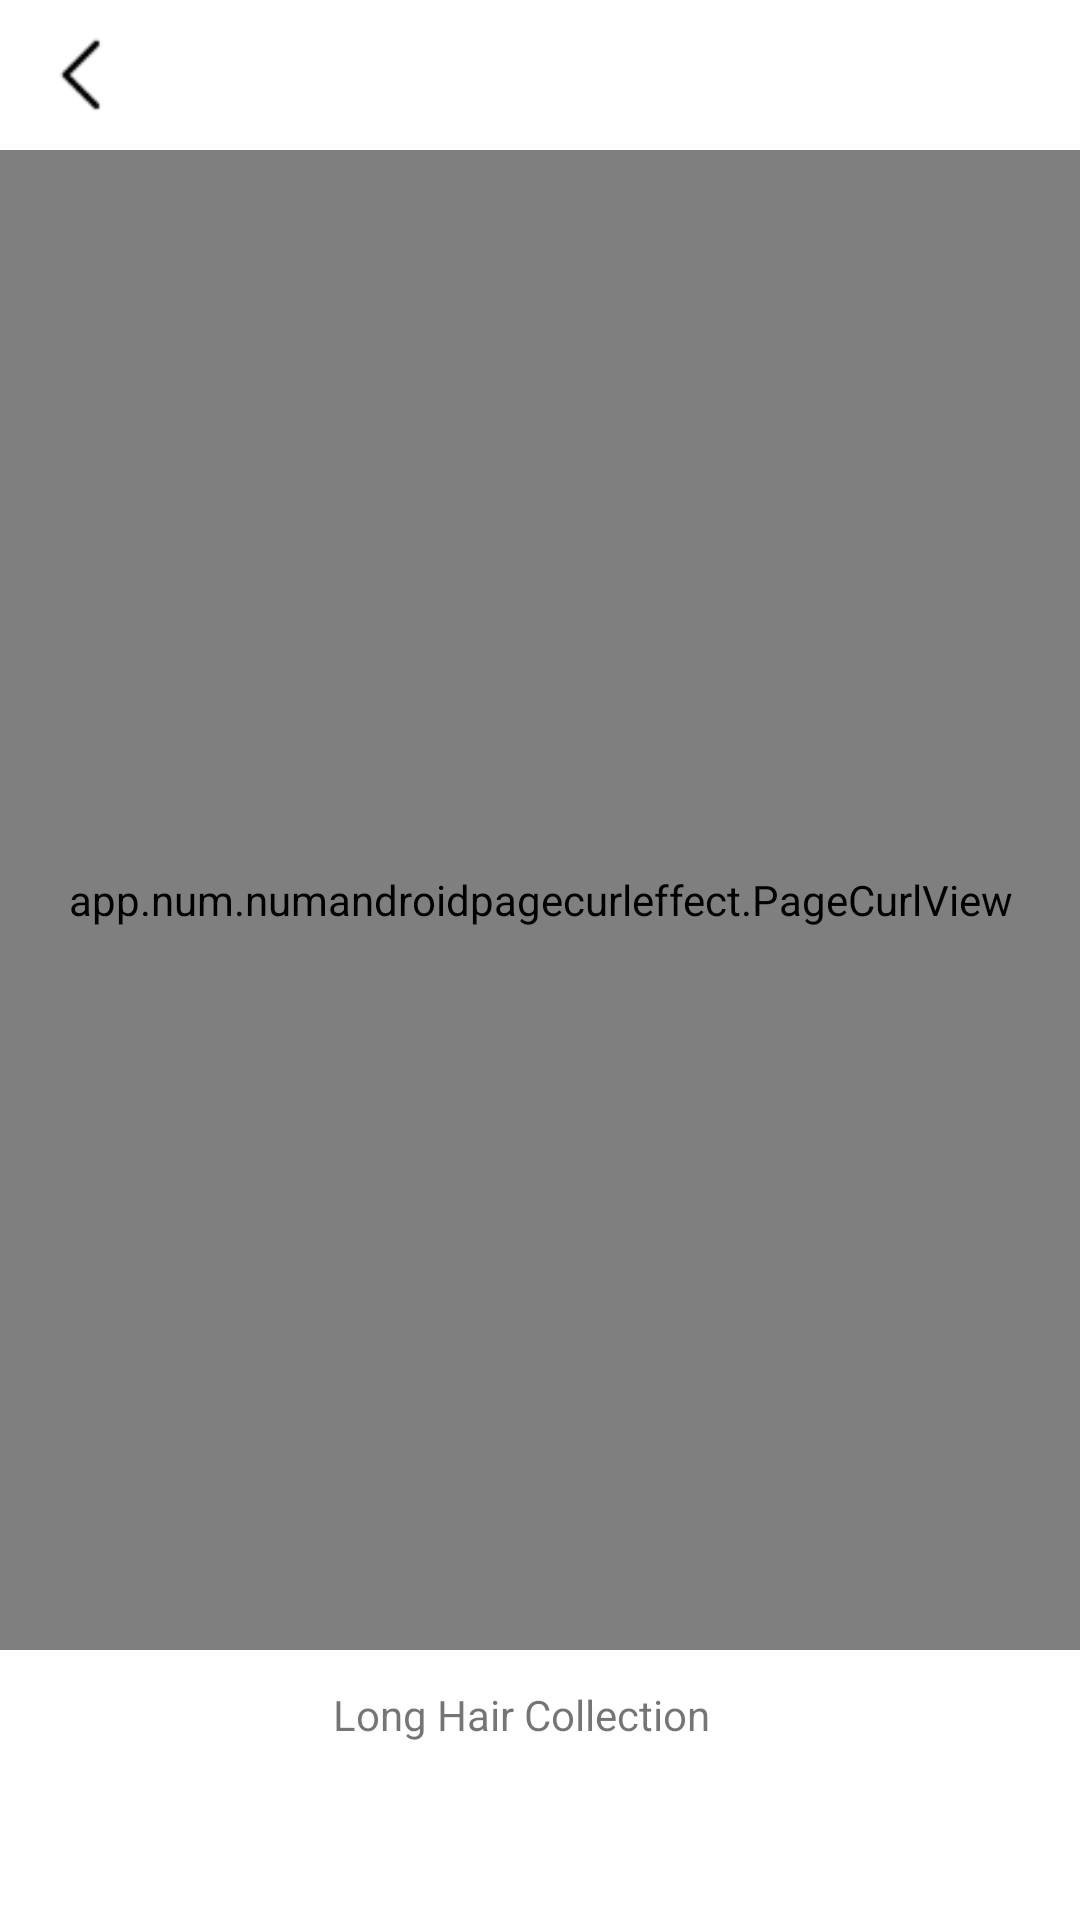

Named icons in this screenshot (1080×1920) and their centers, point (x, y):
back: point (80, 74)
